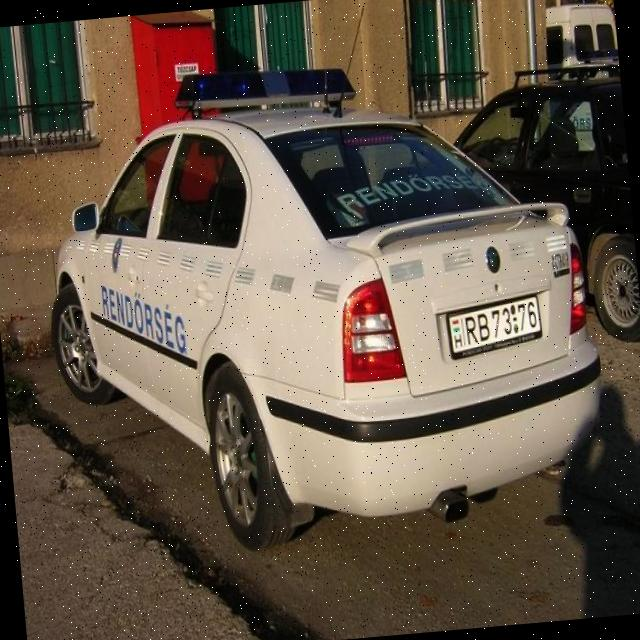licence: (441, 296, 546, 356)
